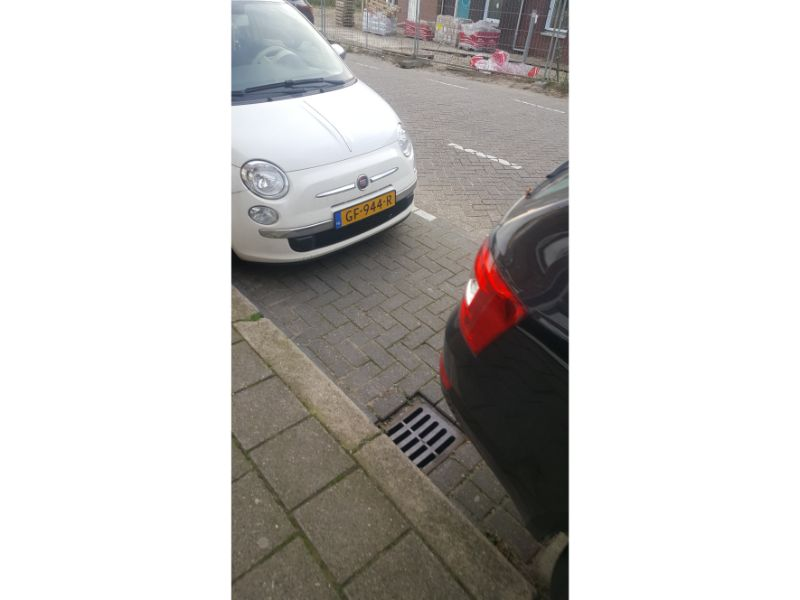kenteken: (335, 191, 399, 226)
